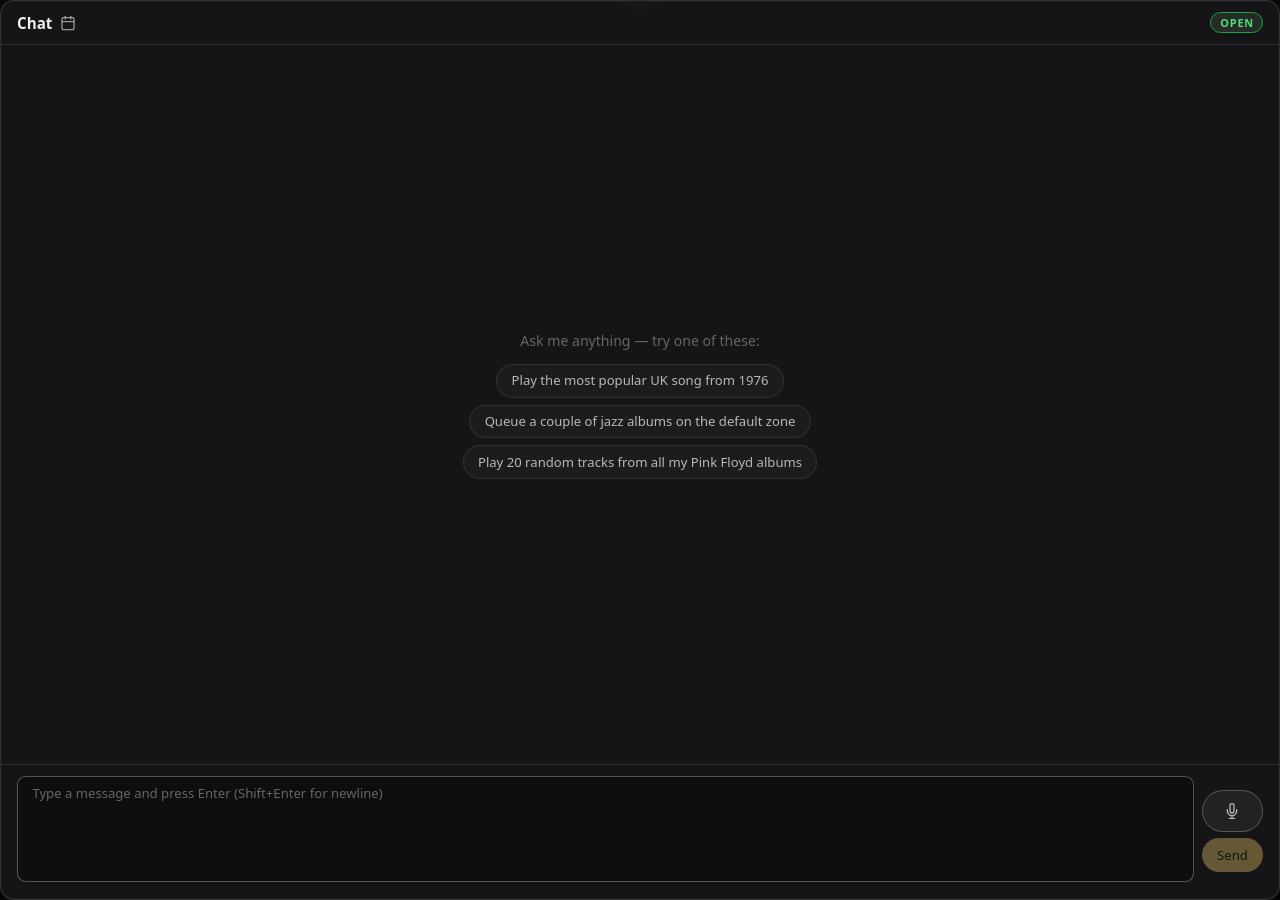
ChatPanel speech input › toggles to listening state on mic button click
Step 1. Click the button named "Start speech input" → point(1232, 812), box [1202, 790, 1263, 832]
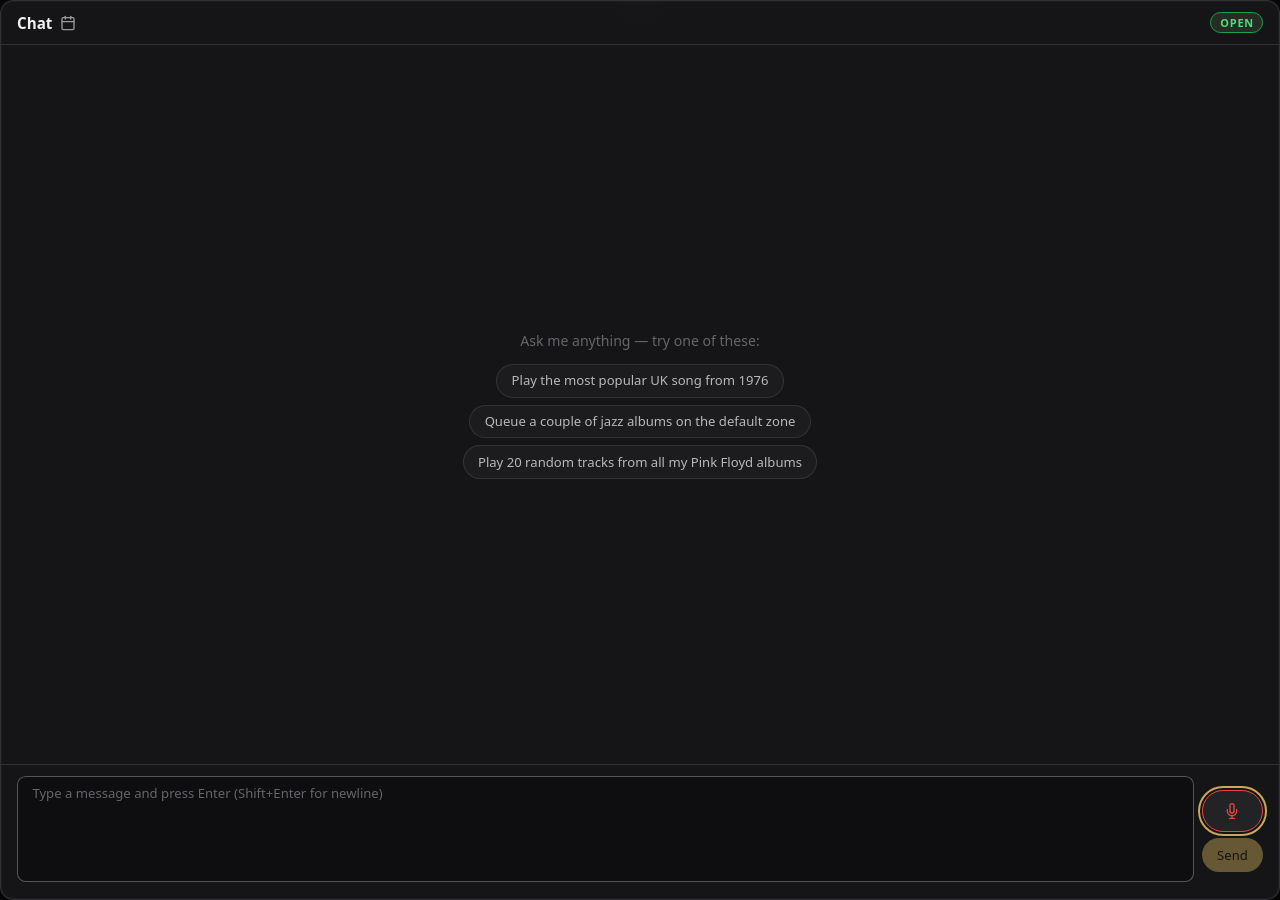
Expected: the button named "Stop listening" is shown, [1202, 790, 1263, 832]
